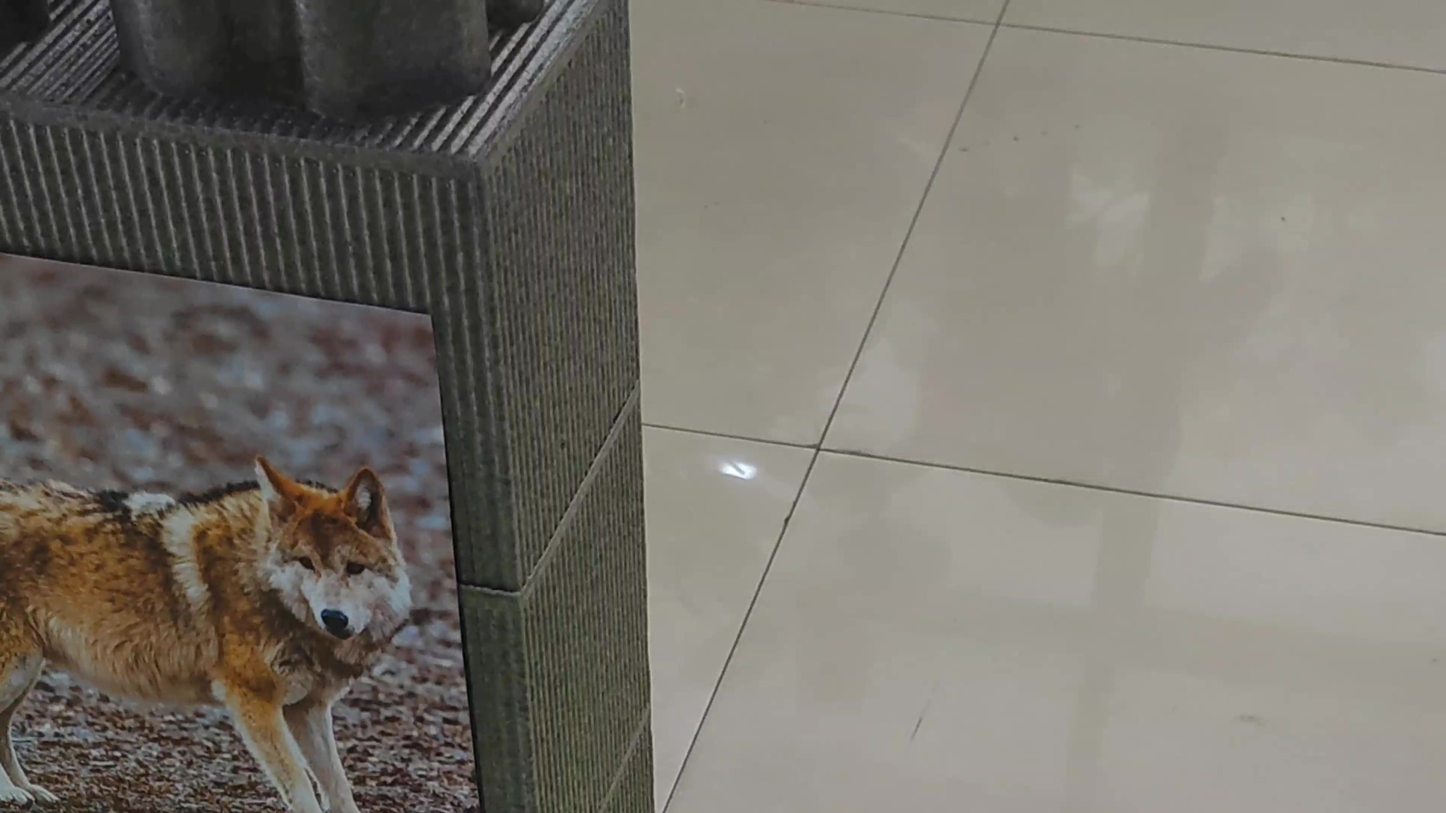wolf: (0, 428, 419, 813)
